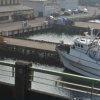Boat: (52, 34, 100, 88)
